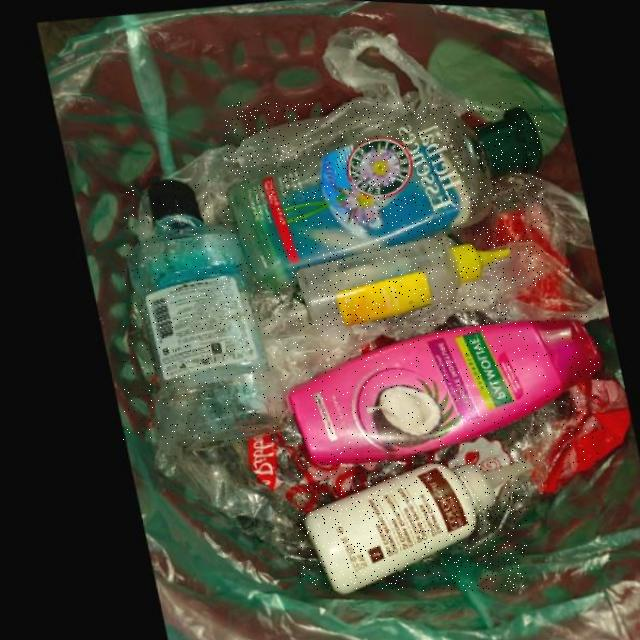plastic: (225, 103, 543, 289), (282, 315, 599, 463), (124, 179, 282, 444), (298, 456, 527, 591), (293, 232, 507, 326)
